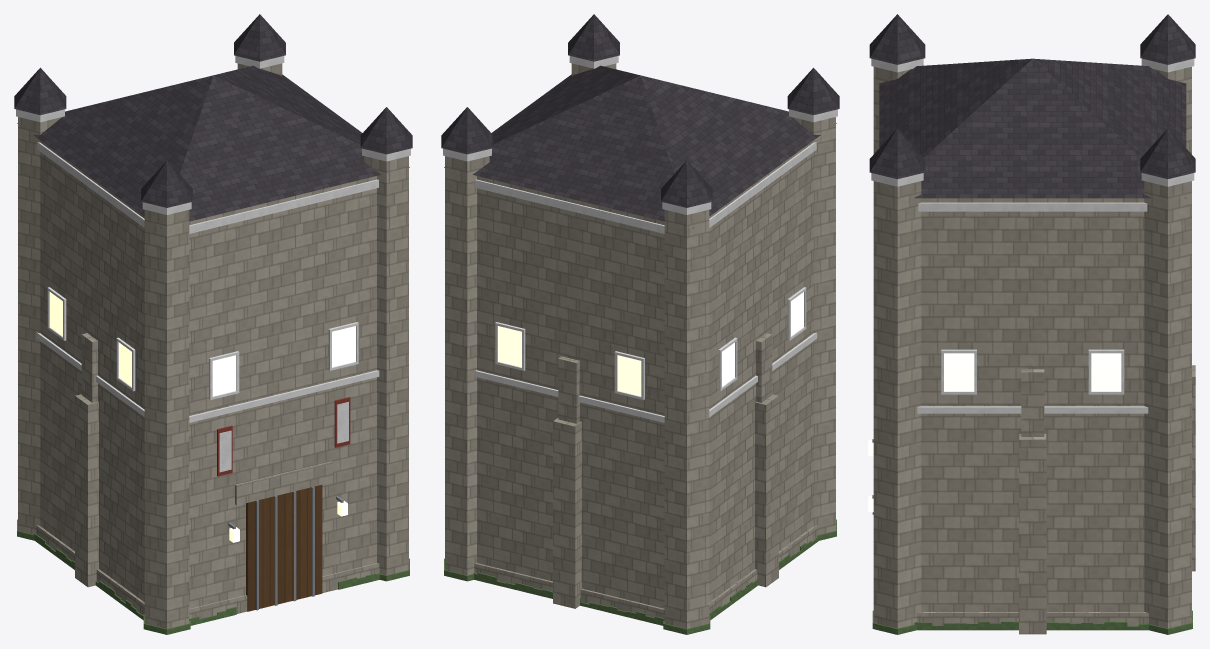
File: keep.t5.glb
3 renders of one model, left to right at view 1: azimuth 30°, elevation 25°; view 2: azimuth 150°, elevation 25°; view 3: azimuth 270°, elevation 25°, orthographic. The views are drawn at different scales.
Parts seen in each view (by area): view 1: castle.keep.t5; view 2: castle.keep.t5; view 3: castle.keep.t5.
Part boxes in pixels (left/top/right/bottom): castle.keep.t5: left=14, top=14, right=412, bottom=634; castle.keep.t5: left=441, top=14, right=839, bottom=634; castle.keep.t5: left=868, top=14, right=1195, bottom=634.
Size of the model in its own units: 7.3 by 12.2 by 7.15.
Materials: 9 (8 with a texture image).
